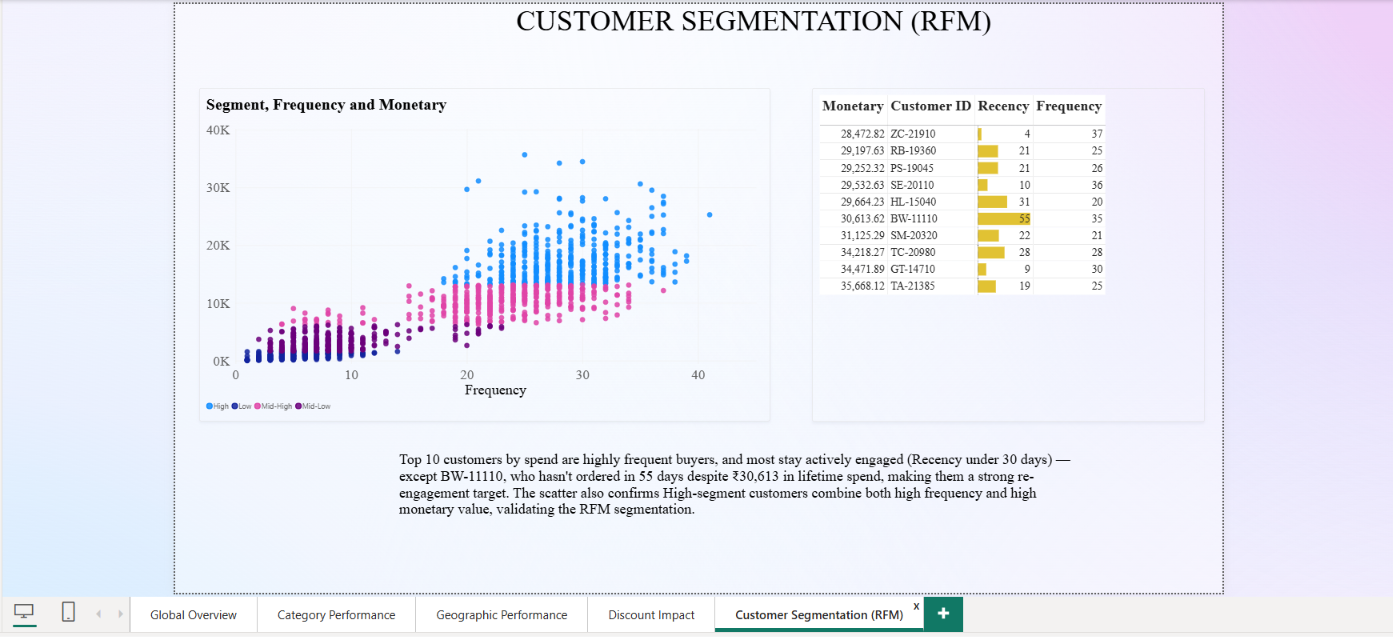

The dashboard page shown, as its layout file describes it:
{"tool":"powerbi","page":{"name":"Customer Segmentation (RFM)","canvas":[1920,1080],"ordinal":4},"visuals":[{"type":"scatterChart","fields":{"Series":["rfm_output.Segment"],"X":["rfm_output.Frequency"],"Y":["rfm_output.Monetary"]},"box":[43.6,153.5,1047.4,610.8],"z":0},{"type":"tableEx","fields":{"Values":["rfm_output.Monetary","rfm_output.Customer ID","rfm_output.Recency","rfm_output.Frequency"]},"box":[1167.6,153.5,719.6,611.8],"z":1},{"type":"textbox","box":[410.6,819.2,1231.9,211.5],"z":2},{"type":"textbox","box":[626.3,0,1030.7,134.8],"z":3}]}

Visuals, with their boxes on the page's 1920x1080 design canvas (x1, y1, x2, y2). These are canvas units, not pixel positions in the 1393x637 screenshot, which may show the page scaled, cropped or inside an application window:
scatterChart - rfm_output.Segment x rfm_output.Frequency: left=44, top=154, right=1091, bottom=764
tableEx - rfm_output.Monetary x rfm_output.Customer ID: left=1168, top=154, right=1887, bottom=765
textbox: left=411, top=819, right=1642, bottom=1031
textbox: left=626, top=0, right=1657, bottom=135
